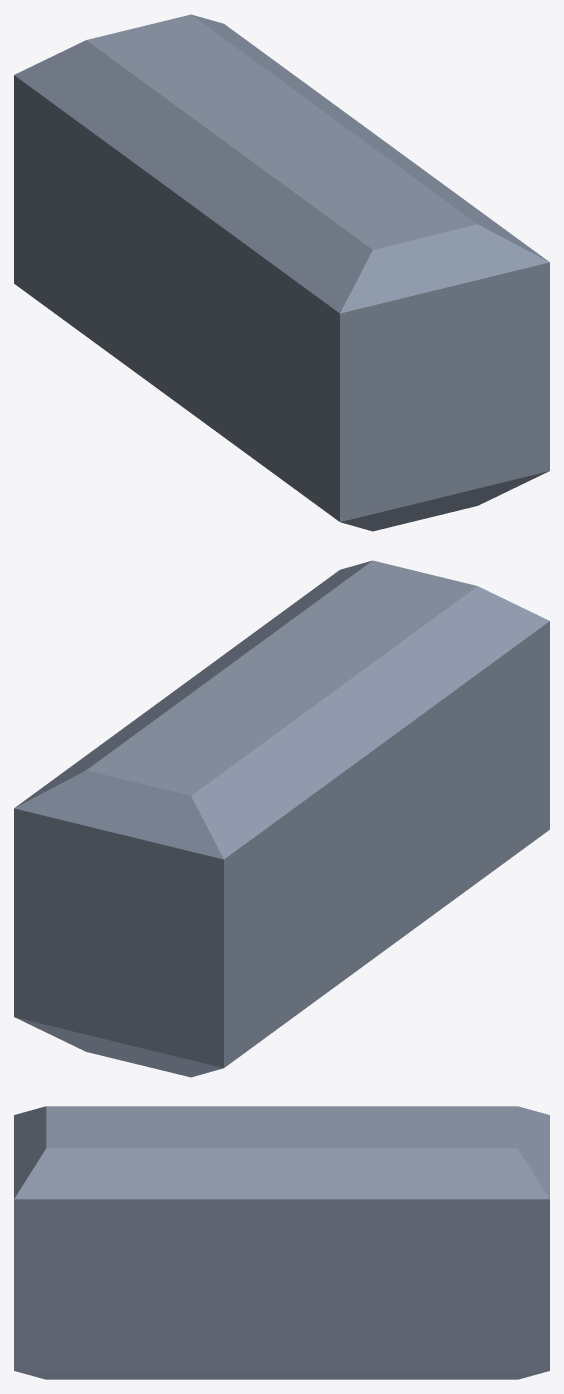
File: 7_Rock_1.fbx
3 renders of one model, top to bottom at view 1: azimuth 30°, elevation 25°; view 2: azimuth 150°, elevation 25°; view 3: azimuth 270°, elevation 25°, orthographic. The views are drawn at different scales.
Parts seen in each view (by area): view 1: pasted__pCube22; view 2: pasted__pCube22; view 3: pasted__pCube22.
Boxes of the visible parts, x1,y1,x2,y2 form: pasted__pCube22: (14,14,549,531); pasted__pCube22: (14,560,549,1077); pasted__pCube22: (14,1106,549,1379).
Size of the model in its own units: 0.2894 by 0.3707 by 0.7779.
